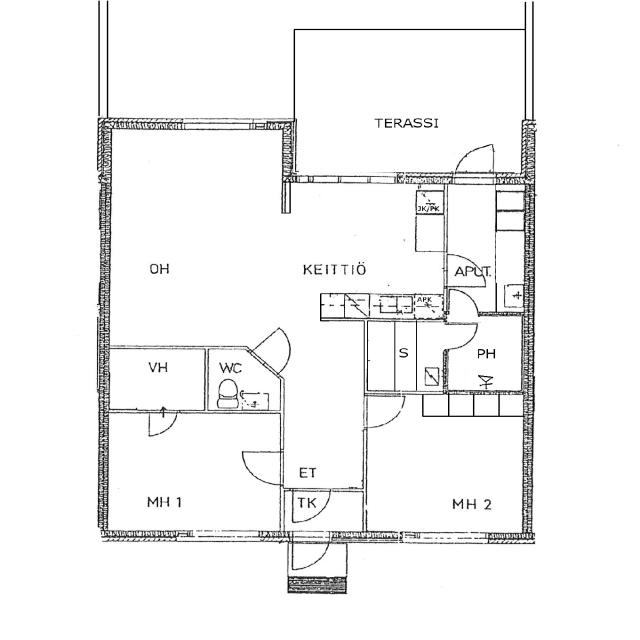door: (450, 141, 499, 180), (255, 325, 295, 372), (290, 534, 332, 574), (240, 449, 284, 486), (289, 488, 331, 523), (365, 394, 406, 428), (443, 253, 484, 284), (446, 286, 482, 320), (444, 322, 480, 352), (150, 409, 180, 438)
window: (180, 527, 262, 544), (186, 118, 260, 136), (400, 532, 490, 546), (318, 172, 397, 187)
zone: (106, 123, 287, 346), (282, 179, 446, 321), (102, 408, 282, 537), (363, 396, 528, 535), (276, 317, 369, 490), (442, 178, 523, 316), (102, 348, 209, 412), (444, 316, 526, 394), (364, 319, 446, 394), (205, 348, 283, 412), (290, 488, 330, 524)
